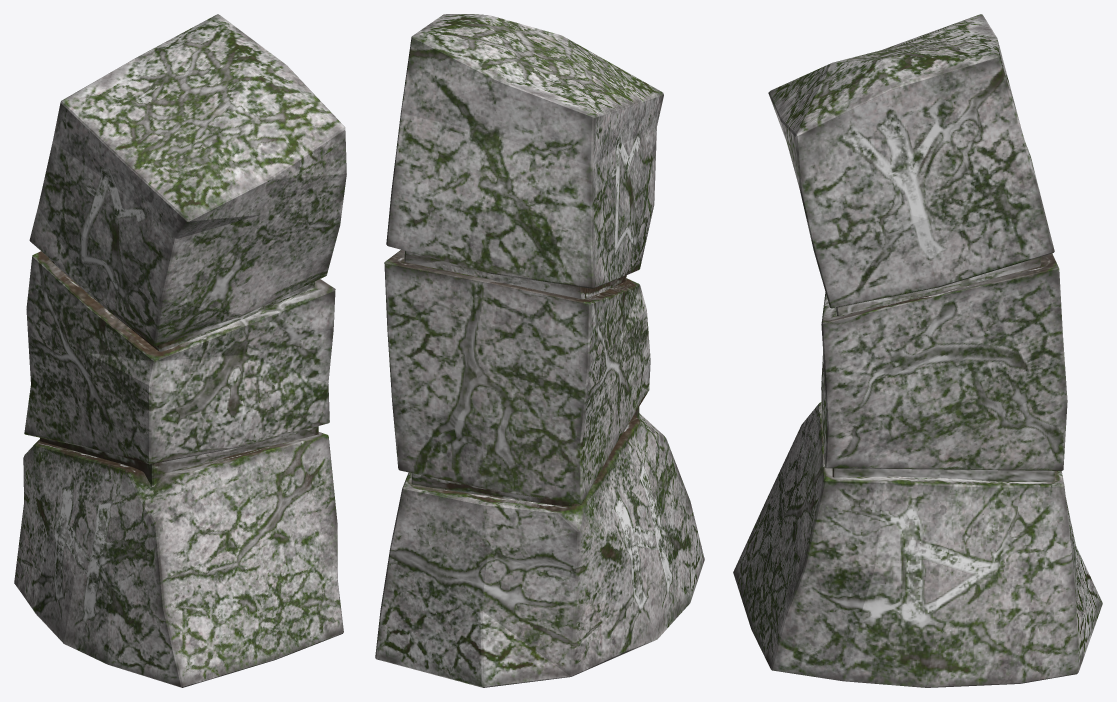
The model's file is SunderedRuneArch.fbx.
3 renders of one model, left to right at view 1: azimuth 30°, elevation 25°; view 2: azimuth 150°, elevation 25°; view 3: azimuth 270°, elevation 25°, orthographic. The views are drawn at different scales.
Parts seen in each view (by area): view 1: rock_Baked; view 2: rock_Baked; view 3: rock_Baked.
Boxes of the visible parts, bbox=[...] form: rock_Baked: bbox=[14, 14, 346, 687]; rock_Baked: bbox=[375, 14, 704, 687]; rock_Baked: bbox=[733, 14, 1102, 687].
Size of the model in its own units: 211 by 472 by 256.
Materials: 1 (1 with a texture image).
